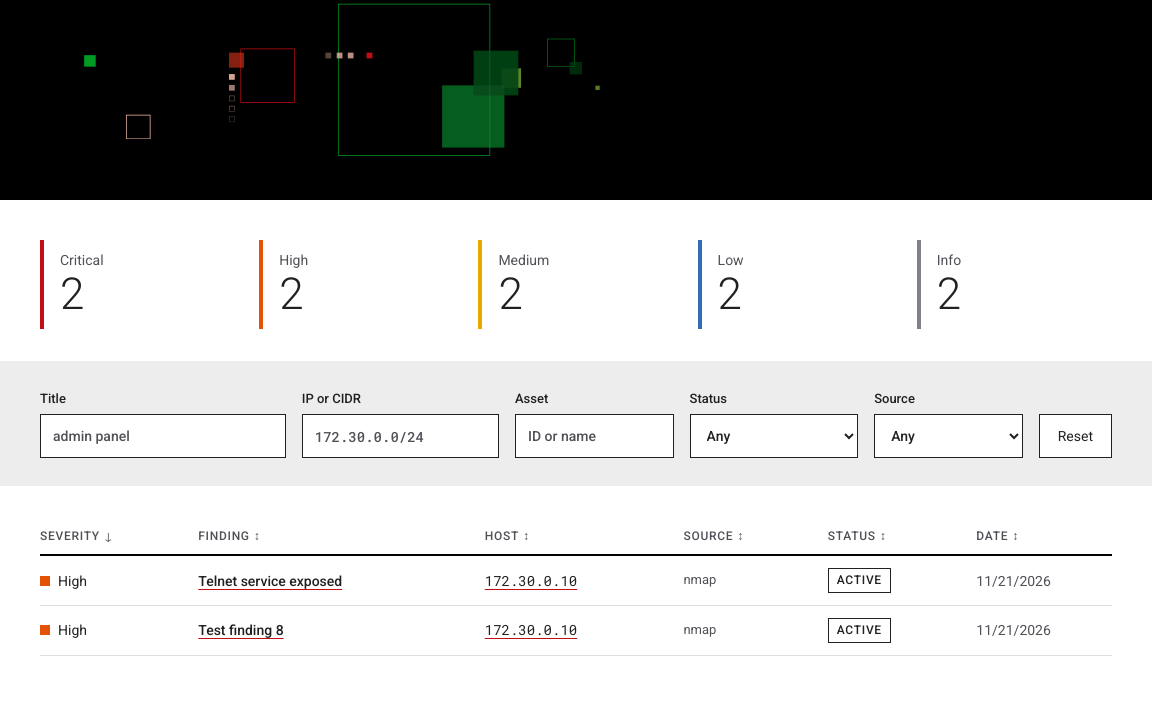
Findings page › places the selected detail at 700px
This screenshot has width=1152, height=720.
(page scrolled)
What coordinates should you click on to do the following:
click the link "Test finding 8"
I would click on:
 (241, 630)
Its box is [198,622,284,638].
(page scrolled)
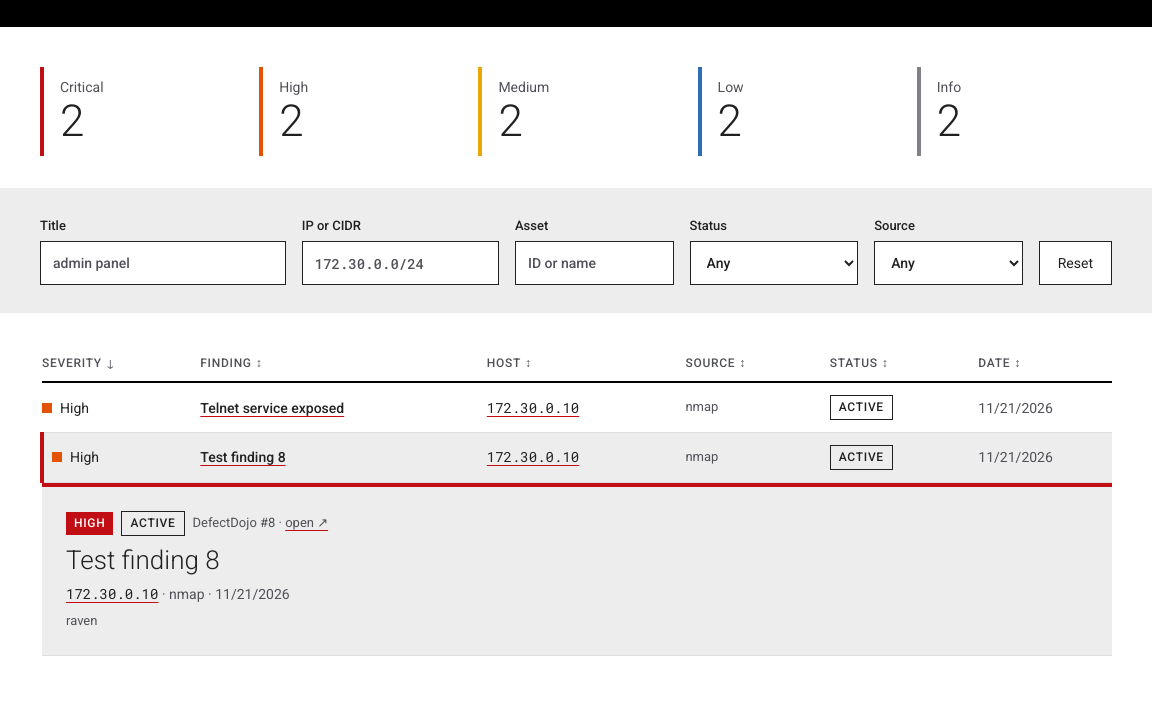
Expected: the link "Test finding 8" is expanded, [200,449,286,465]
